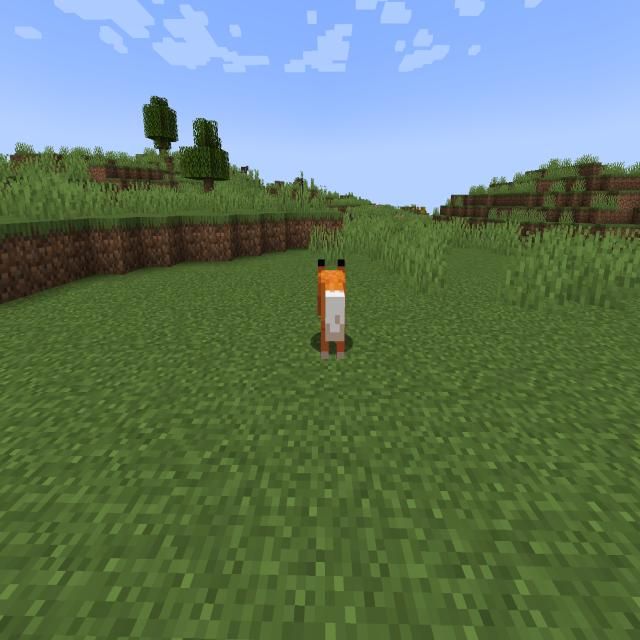Fox: (308, 245, 359, 371)
